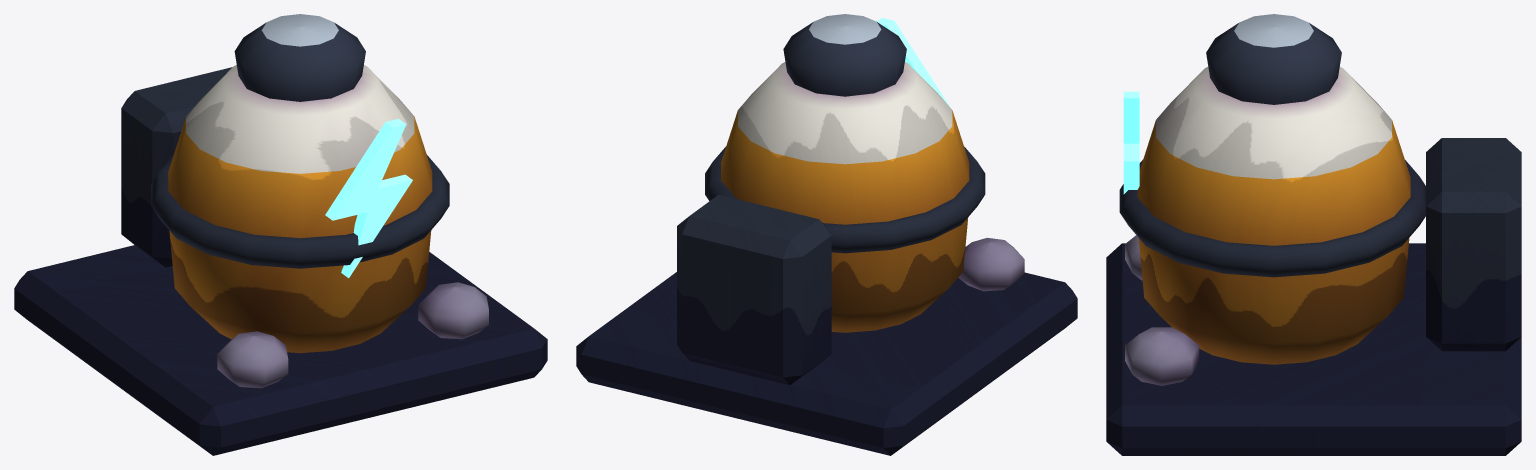
File: R4X_Battery_LOD1.glb
3 views of the same model, side by side, from view 1: azimuth 30°, elevation 25°; view 2: azimuth 150°, elevation 25°; view 3: azimuth 270°, elevation 25° (orthographic). The views are drawn at different scales.
Visible parts, largest first — view 1: R4X_Battery_LOD1; view 2: R4X_Battery_LOD1; view 3: R4X_Battery_LOD1.
Boxes of the visible parts, x1,y1,x2,y2 form: R4X_Battery_LOD1: (14, 14, 547, 455); R4X_Battery_LOD1: (576, 14, 1077, 455); R4X_Battery_LOD1: (1106, 14, 1521, 455).
Bounding box in the file's own units: 0.52 × 0.48 × 0.52.
5 materials, 4 textured.
